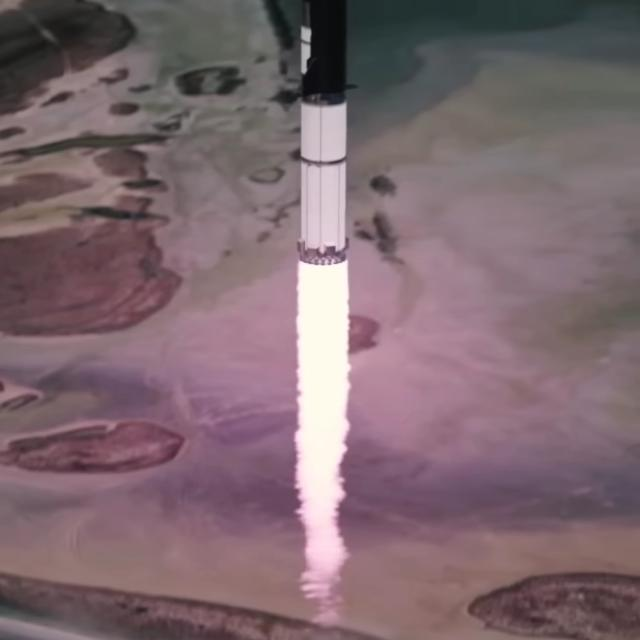missile: (291, 4, 354, 264)
